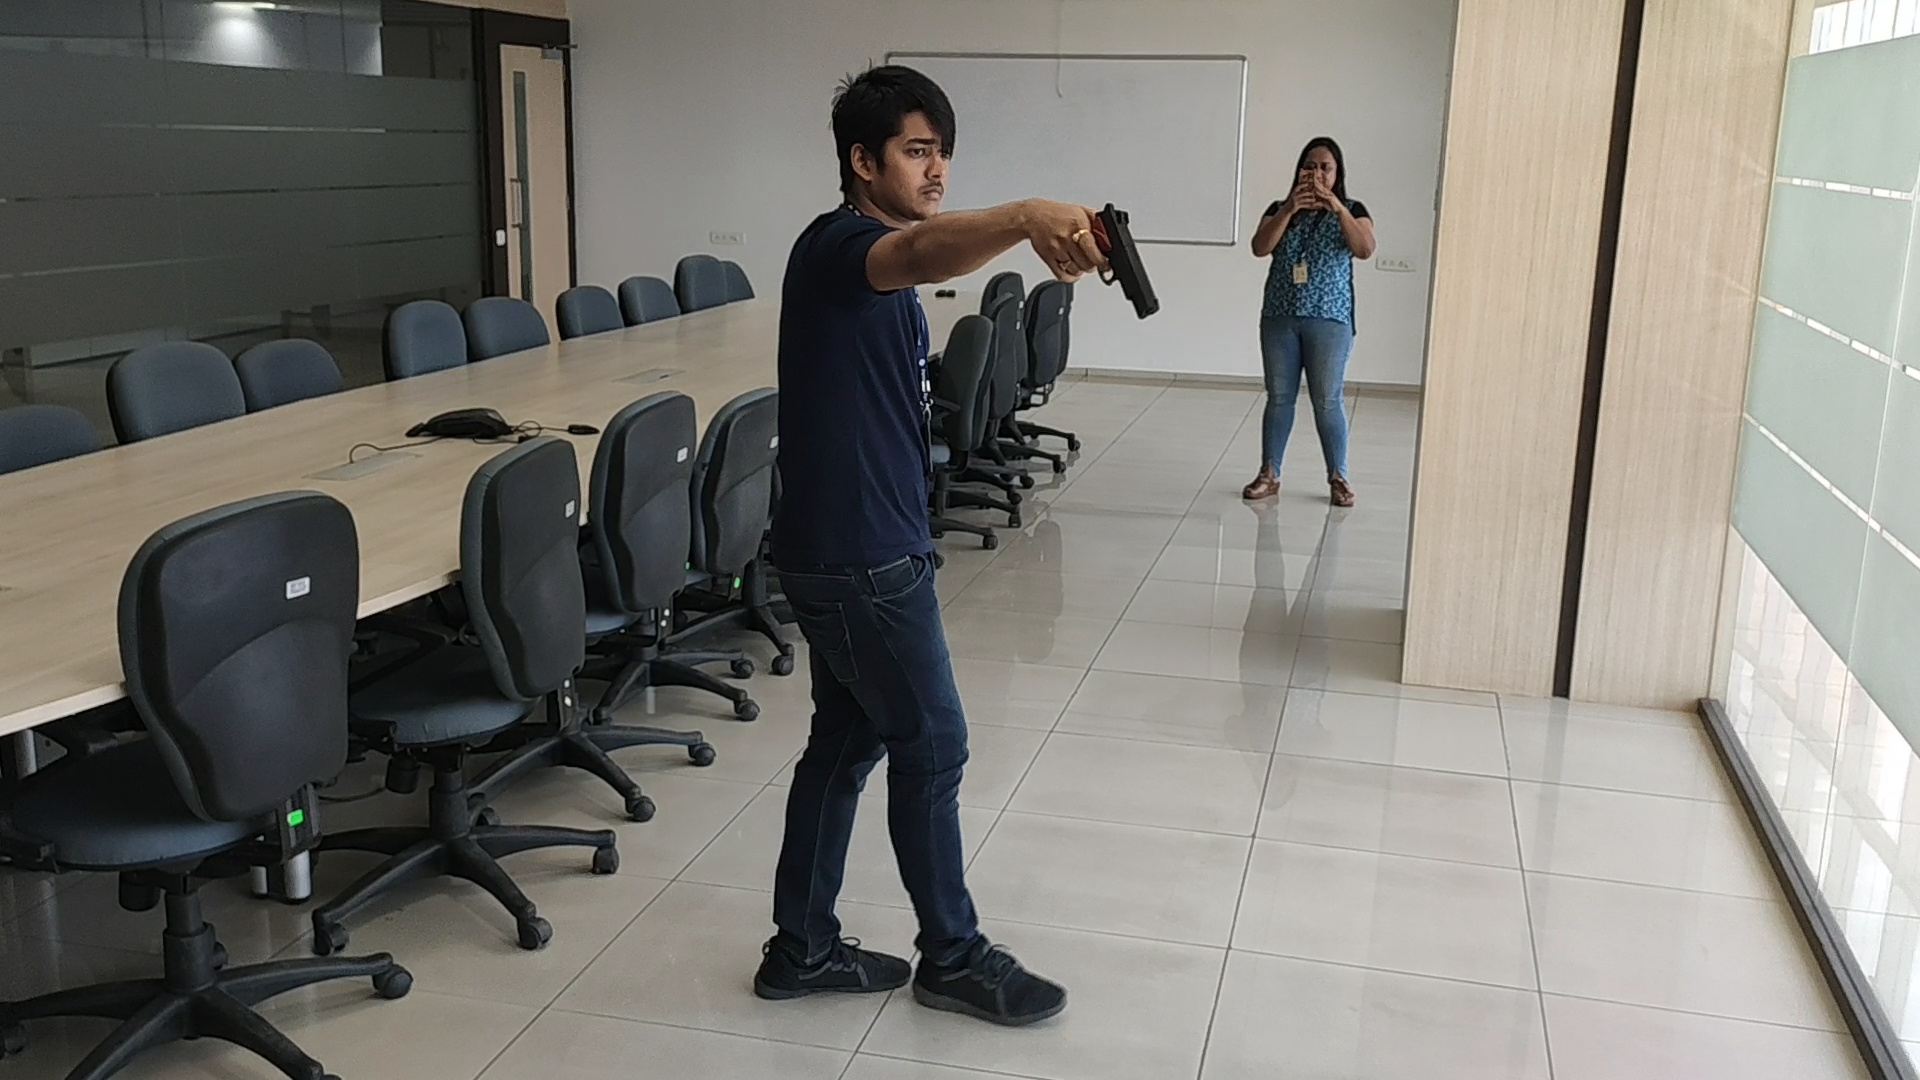gun: (1092, 203, 1163, 320)
